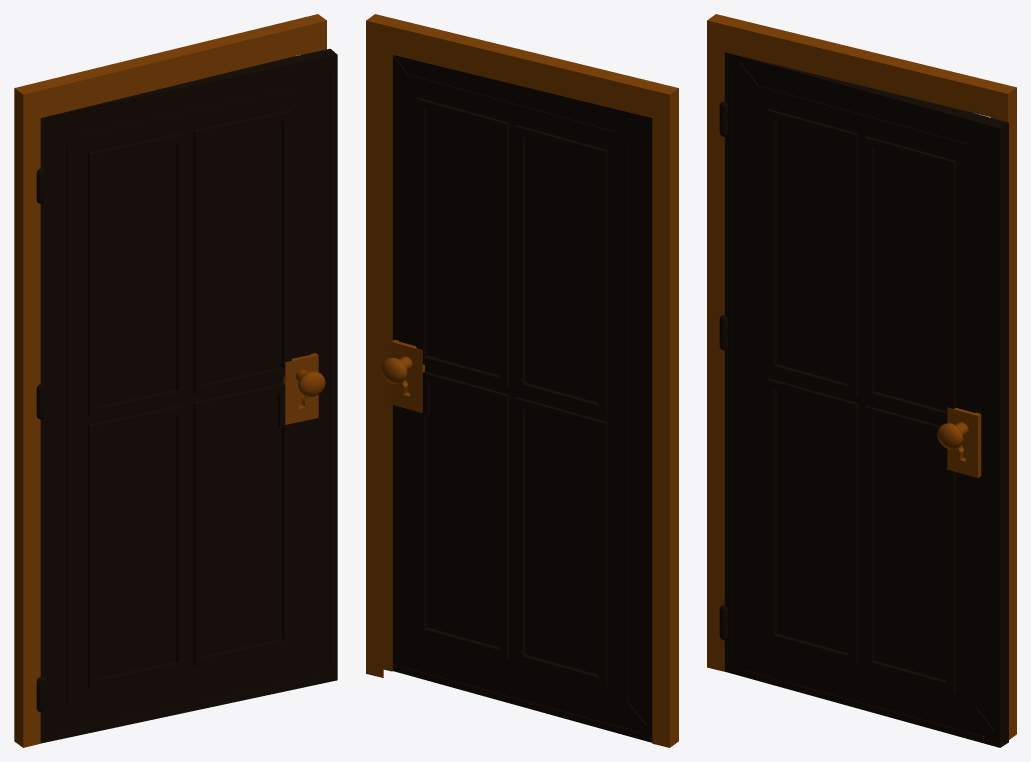
The model's file is animation porte.fbx.
3 views of the same model, side by side, from view 1: azimuth 30°, elevation 25°; view 2: azimuth 150°, elevation 25°; view 3: azimuth 330°, elevation 25° (orthographic).
Parts seen in each view (by area): view 1: porte, cadre; view 2: porte, cadre; view 3: porte, cadre.
Part boxes in pixels (x1,y1,x2,y2): porte: [36, 48, 337, 743]; cadre: [14, 14, 326, 747]; porte: [380, 55, 652, 742]; cadre: [366, 14, 678, 747]; porte: [719, 52, 1008, 747]; cadre: [707, 14, 1016, 739].
Size of the model in its own units: 102 by 209 by 25.3.
